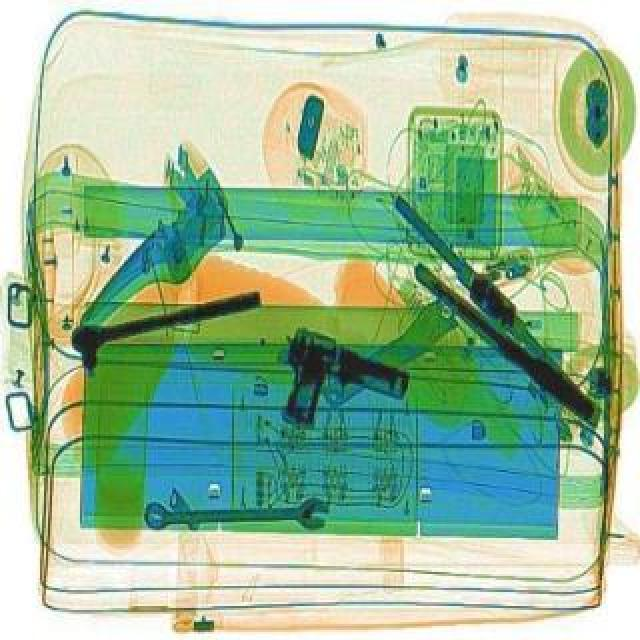gun: (252, 320, 416, 452)
scissors: (144, 492, 330, 528)
